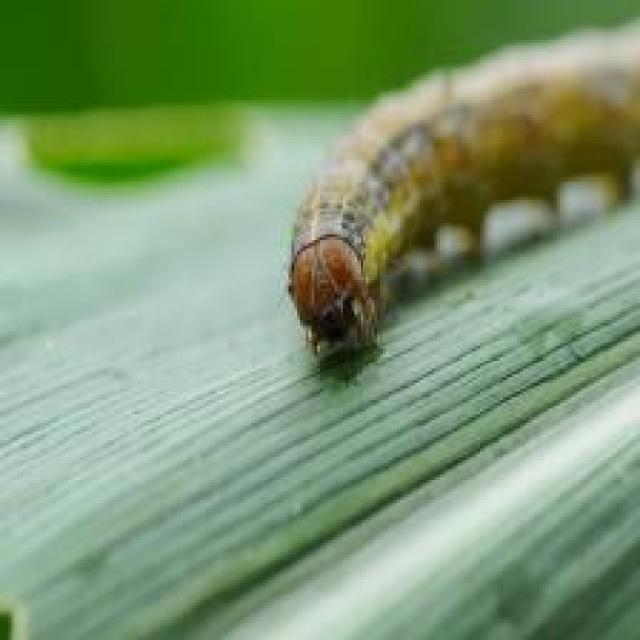Plaga: (281, 8, 640, 377)
